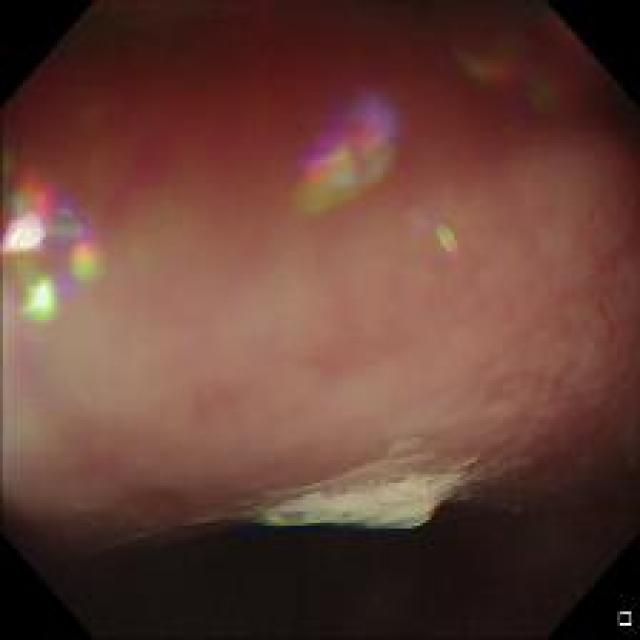blur: (1, 4, 595, 435)
color misalignment: (5, 162, 108, 338), (295, 89, 411, 222), (464, 21, 576, 110), (259, 488, 316, 530), (430, 214, 469, 268)
contrast: (41, 480, 614, 631)
